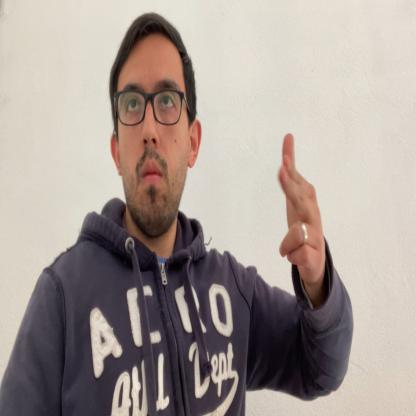H: (276, 132, 329, 278)
